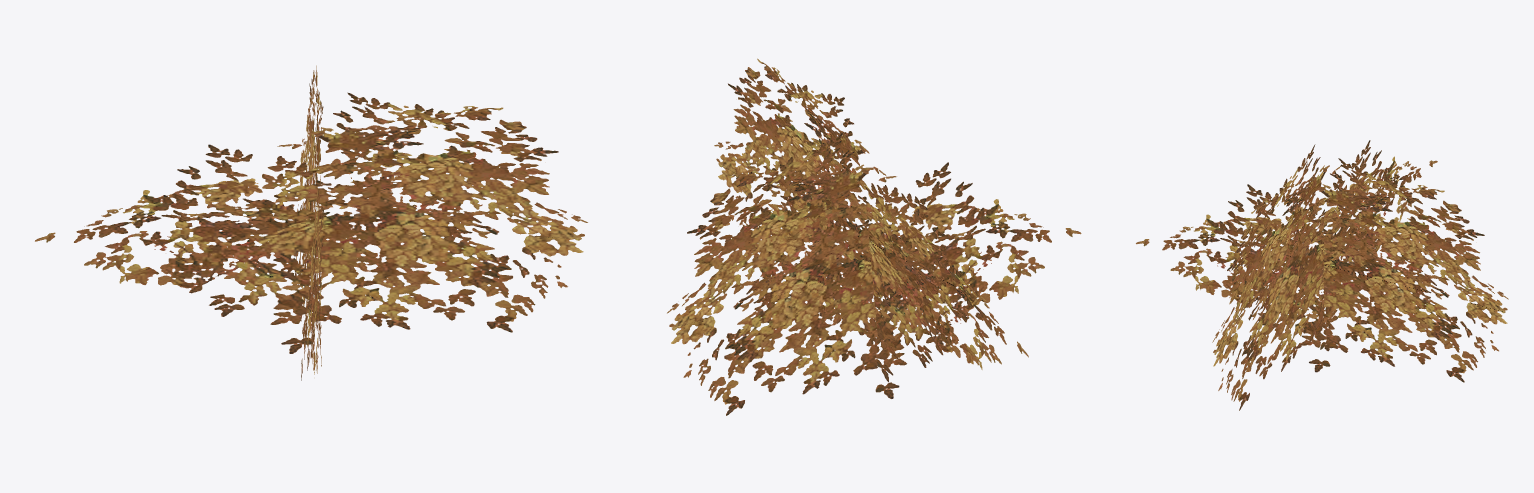
File: decd_saplingclump_sm_a1_l2.fbx
The picture shows the model from 3 angles, left to right: view 1: azimuth 30°, elevation 25°; view 2: azimuth 150°, elevation 25°; view 3: azimuth 270°, elevation 25°; orthographic projection. The views are drawn at different scales.
Visible parts, largest first — view 1: mesh_node; view 2: mesh_node; view 3: mesh_node.
Part boxes in pixels (<box>): mesh_node: <box>35,65,587,380</box>; mesh_node: <box>667,58,1081,415</box>; mesh_node: <box>1136,140,1508,410</box>.
Bounding box in the file's own units: 3.44 × 2.28 × 2.79.
